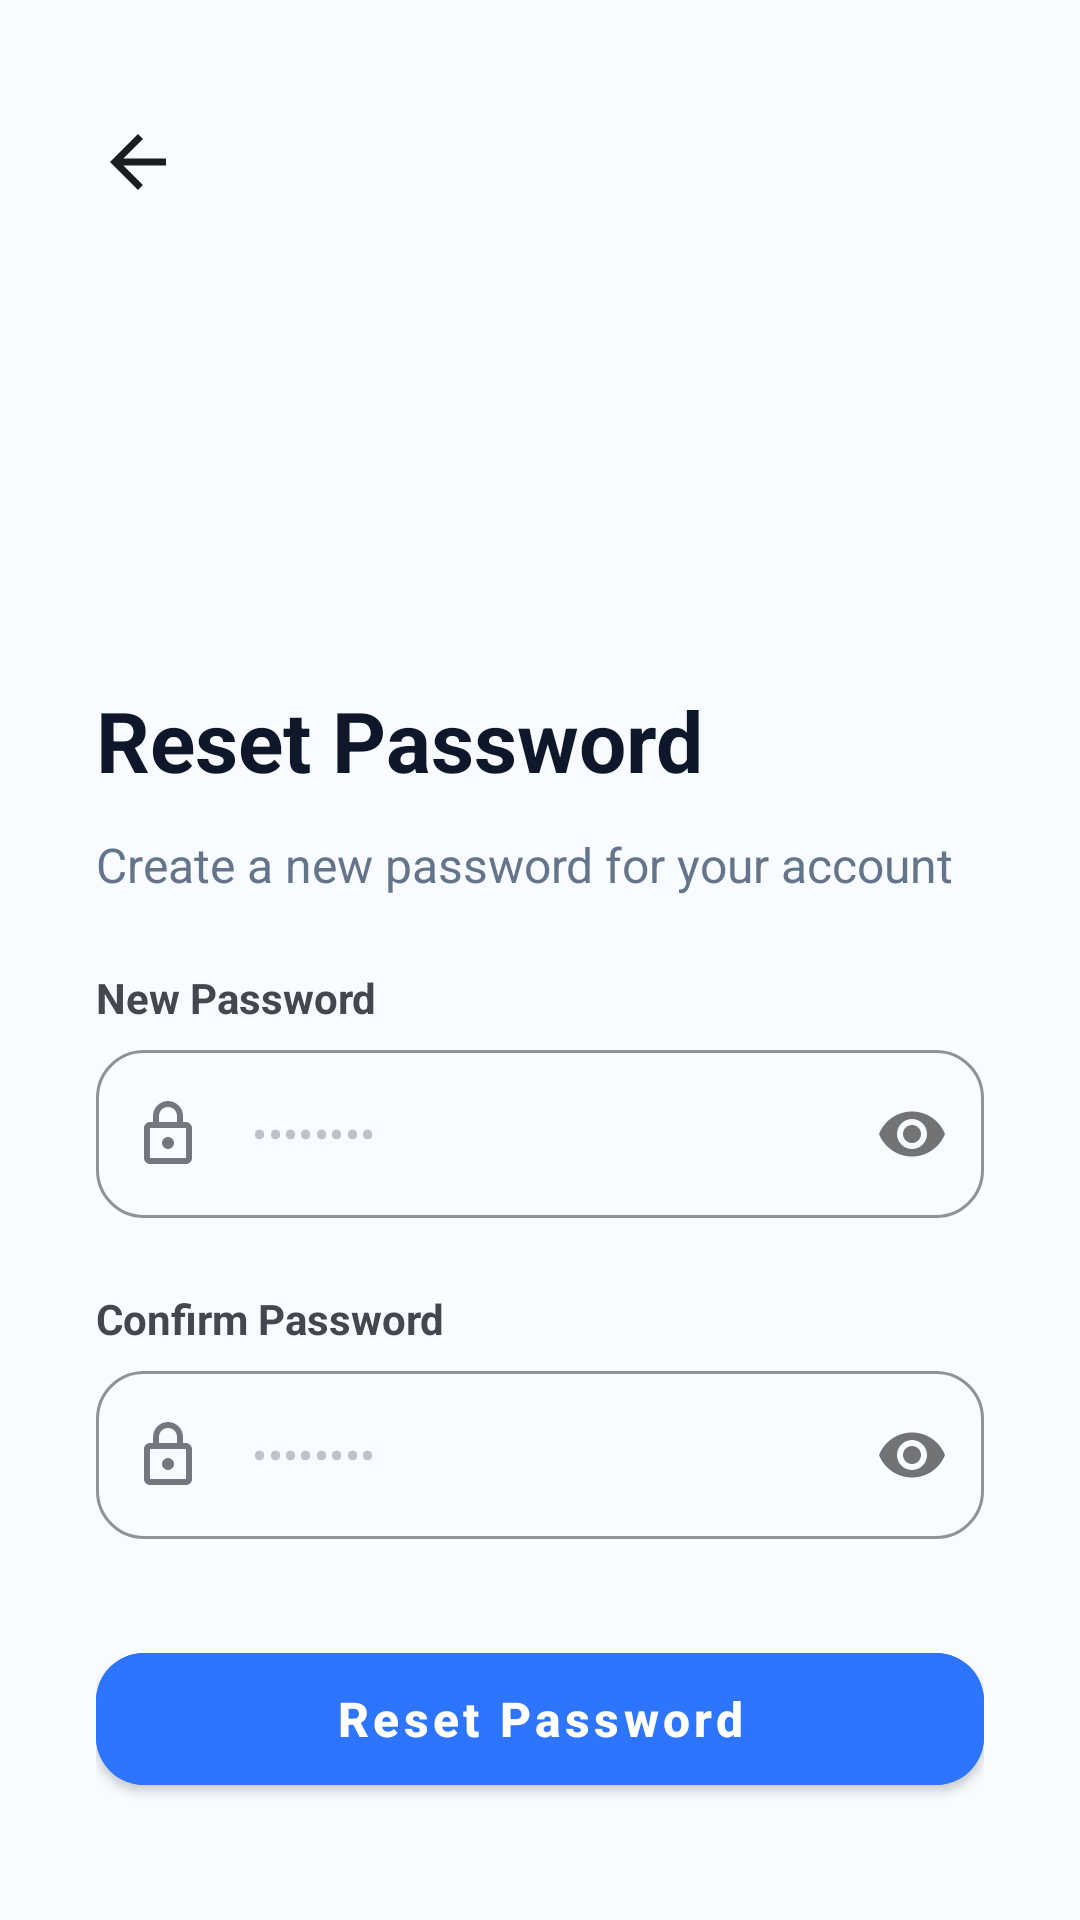

Where icons sit on this 1080×1920 app screen, as bbox=(x1, y1, x2, y2):
back: bbox=(110, 134, 166, 190)
